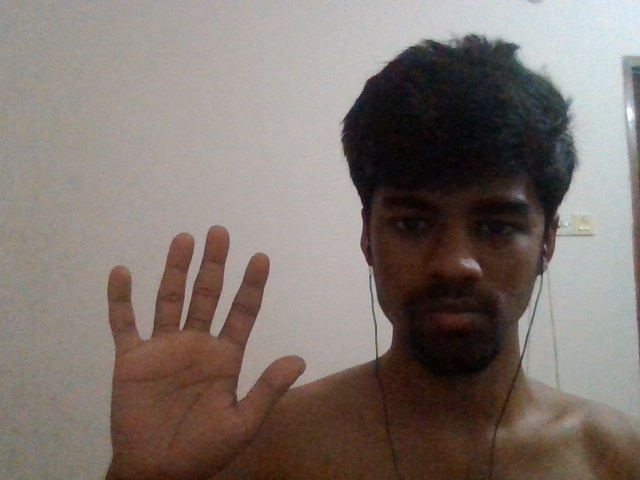Hello: (88, 217, 319, 466)
